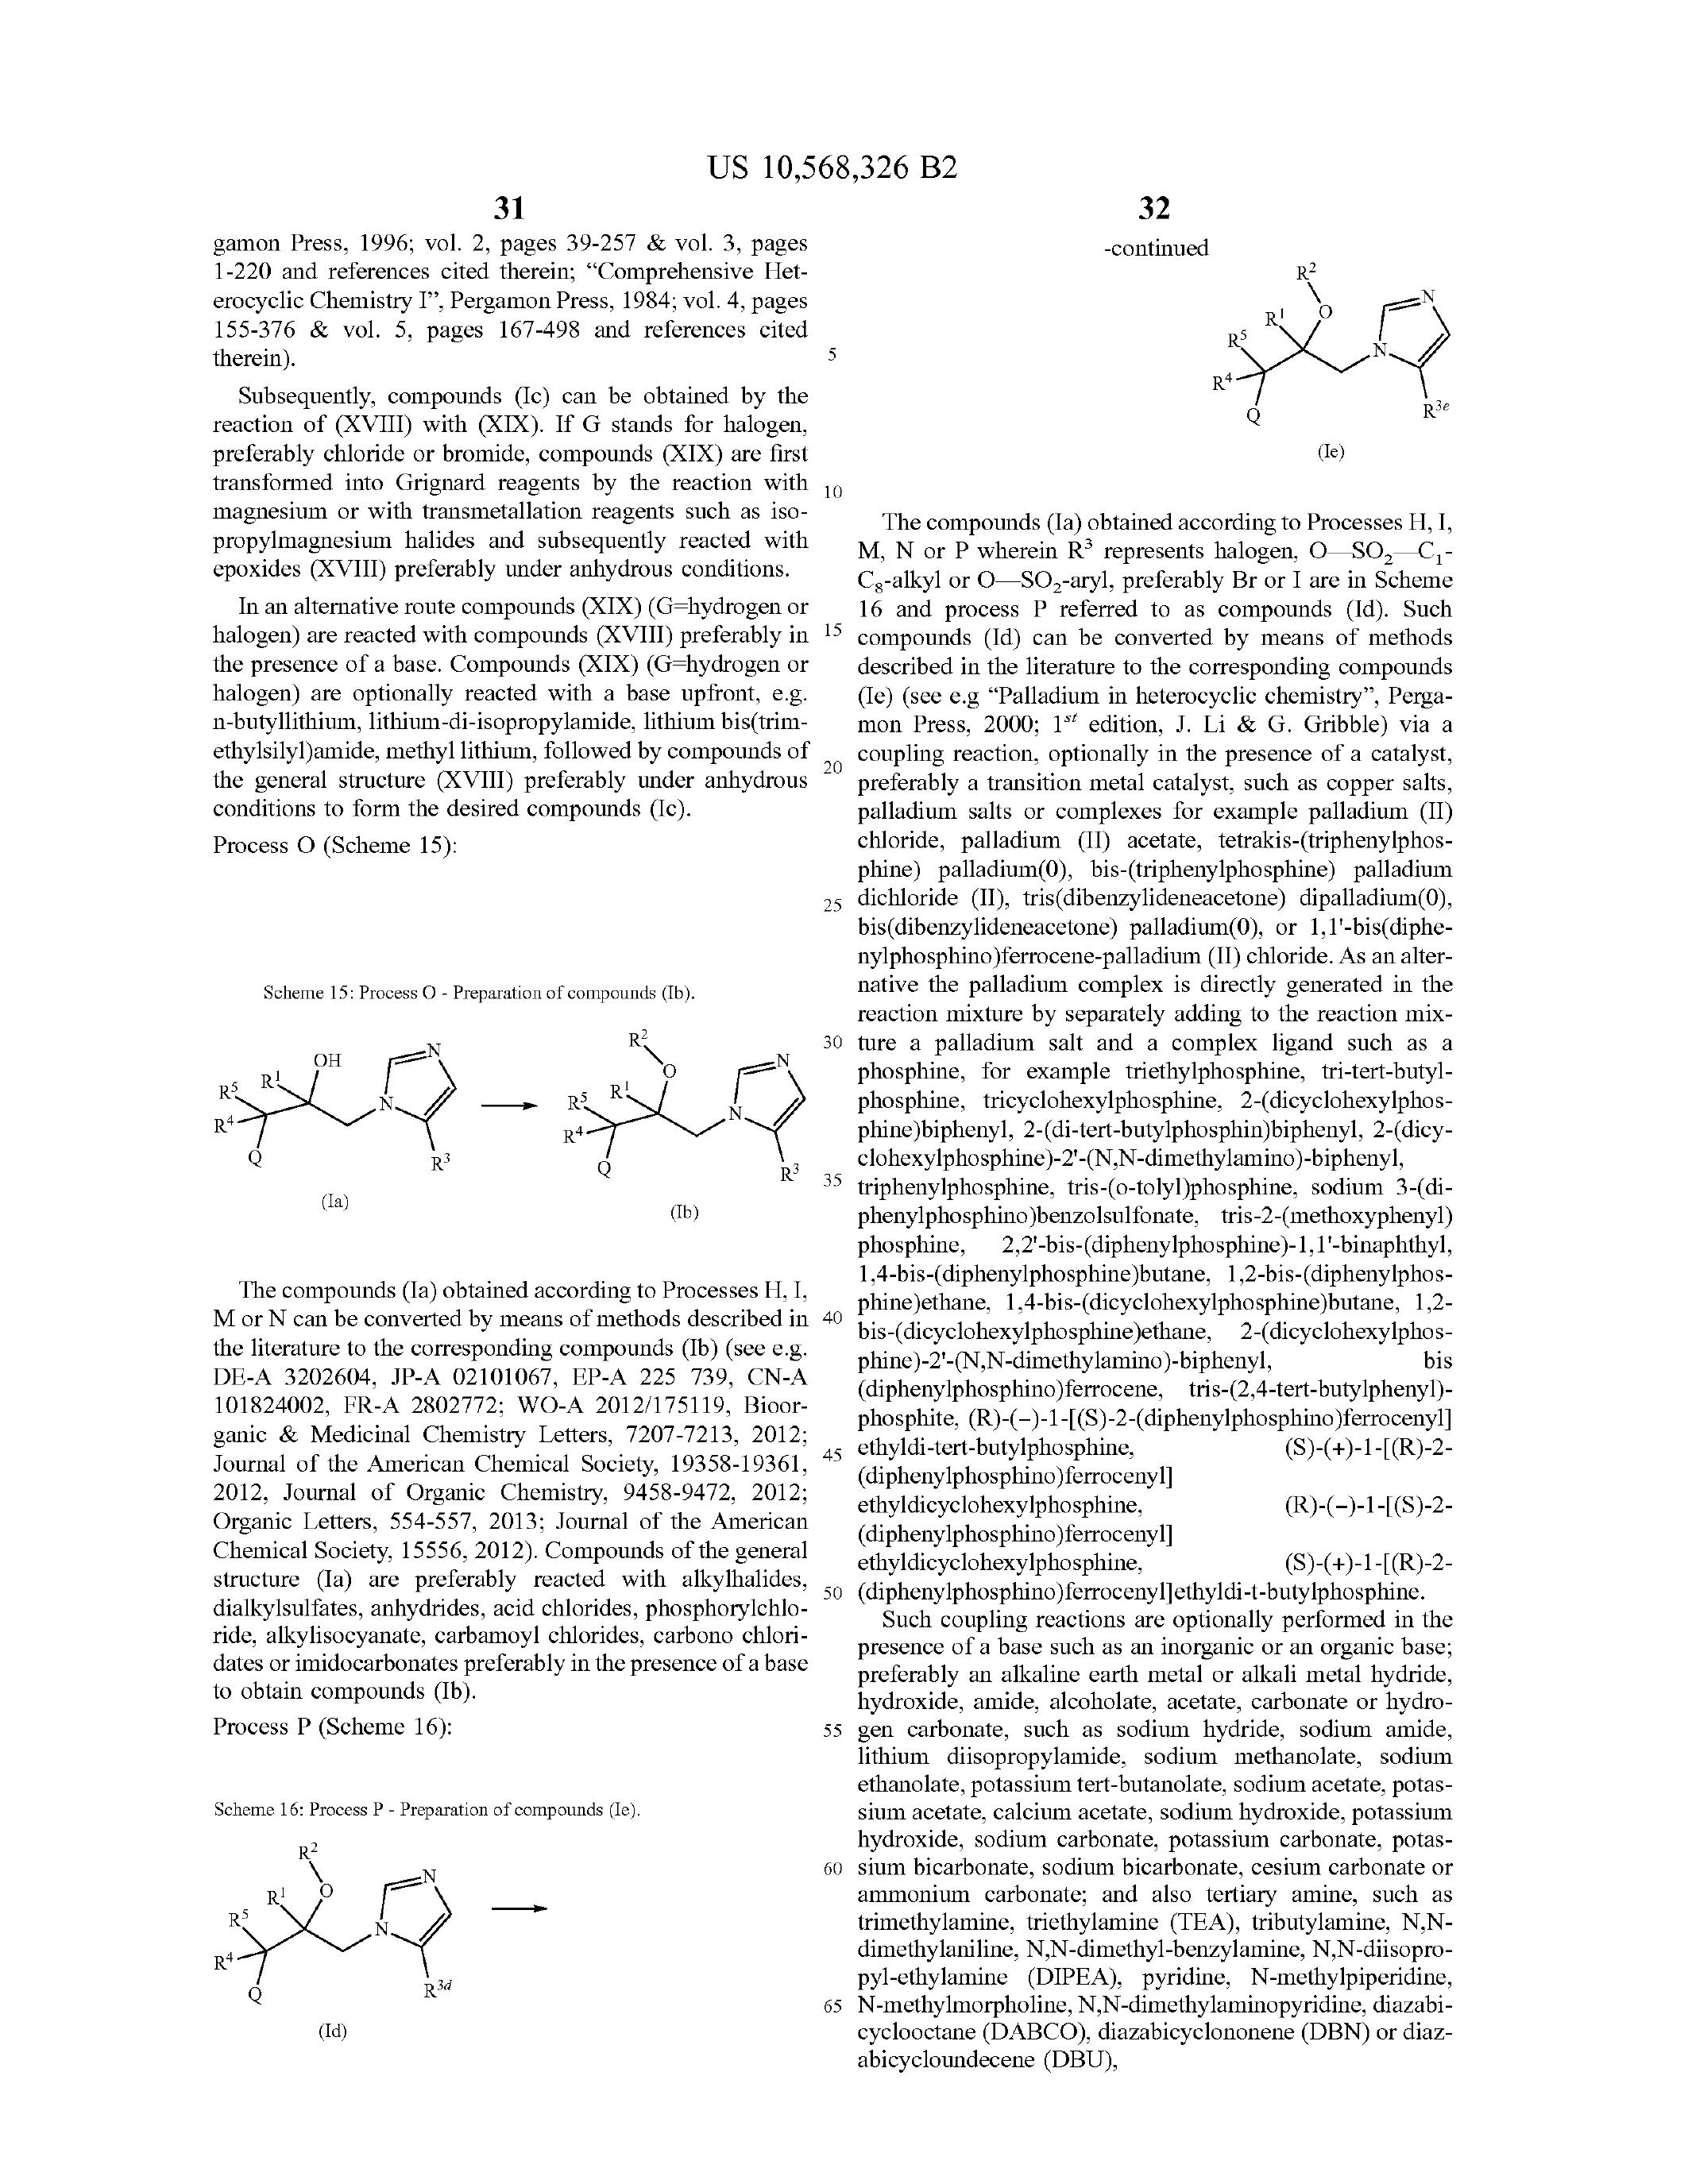reactions: (154, 1002, 826, 1260), (206, 1837, 574, 2106), (1176, 266, 1488, 472)
